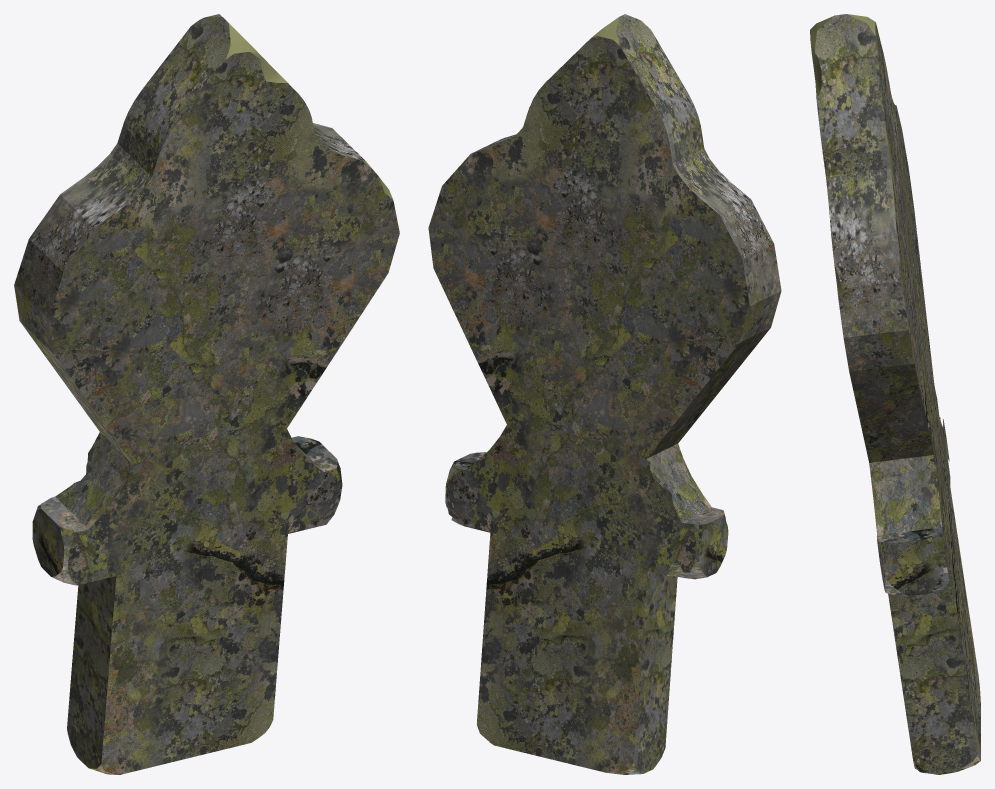
The model's file is BatuNis2.fbx.
3 renders of one model, left to right at view 1: azimuth 30°, elevation 25°; view 2: azimuth 150°, elevation 25°; view 3: azimuth 270°, elevation 25°, orthographic. The views are drawn at different scales.
Visible parts, largest first — view 1: Cube.010_dmg; view 2: Cube.010_dmg; view 3: Cube.010_dmg.
Part boxes in pixels (x1,y1,x2,y2): Cube.010_dmg: (14,14,399,774); Cube.010_dmg: (428,14,781,774); Cube.010_dmg: (810,14,980,774).
Size of the model in its own units: 235 by 492 by 105.
